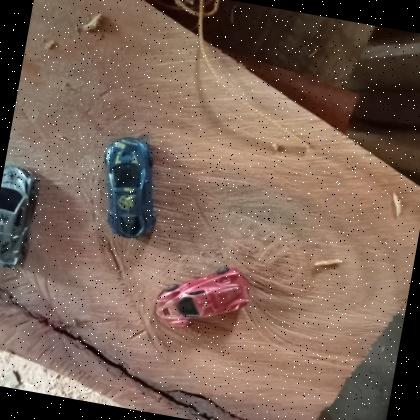Car: (150, 256, 256, 343), (91, 132, 170, 245)
